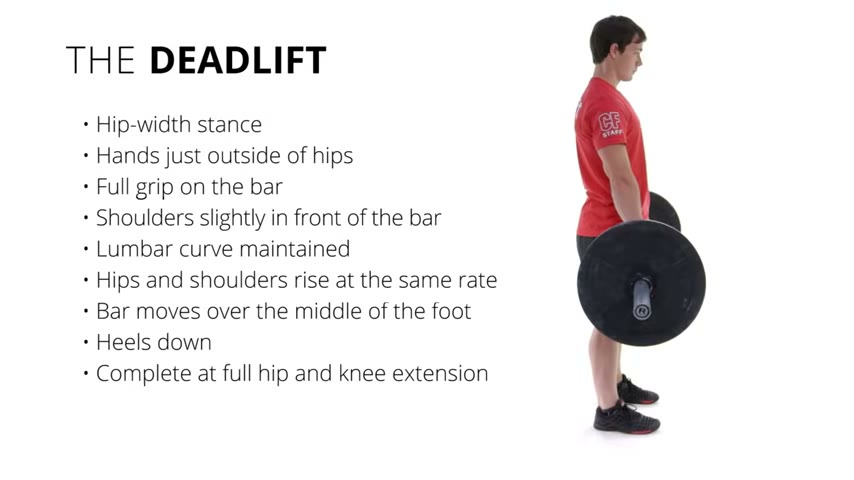barbell_plate_side: (673, 191, 708, 348), (577, 217, 615, 348)
